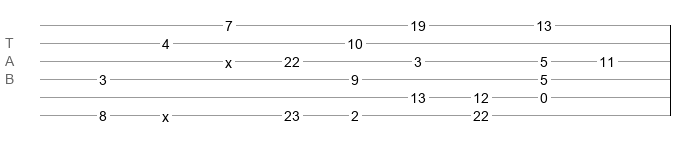0: (540, 90, 548, 100)
10: (347, 36, 363, 46)
11: (599, 54, 615, 64)
12: (473, 90, 489, 100)
13: (410, 90, 426, 100), (536, 18, 552, 28)
19: (410, 18, 426, 28)
2: (351, 108, 359, 118)
22: (284, 54, 300, 64), (473, 108, 489, 118)
23: (284, 108, 300, 118)
3: (99, 72, 107, 82), (414, 54, 422, 64)
4: (162, 36, 170, 46)
5: (540, 72, 548, 82), (540, 54, 548, 64)
7: (225, 18, 233, 28)
8: (99, 108, 107, 118)
9: (351, 72, 359, 82)
x: (162, 109, 169, 117), (225, 55, 232, 63)
